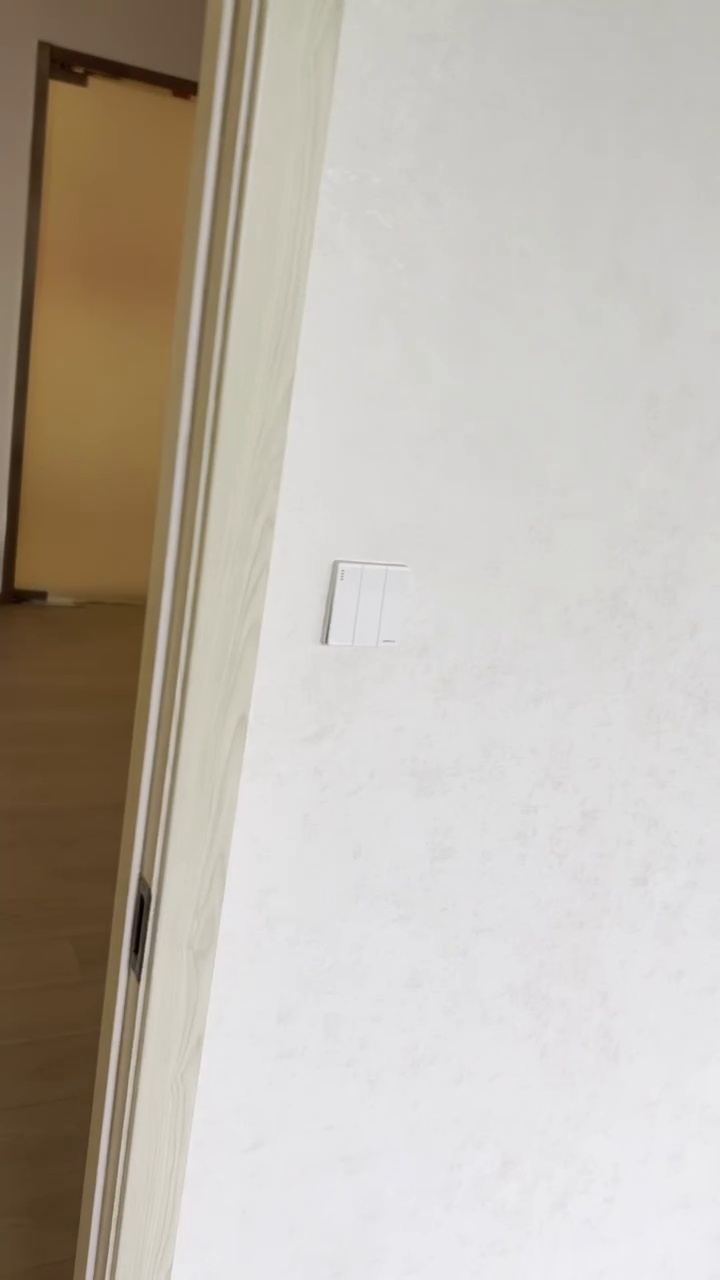button: (325, 557, 414, 656)
